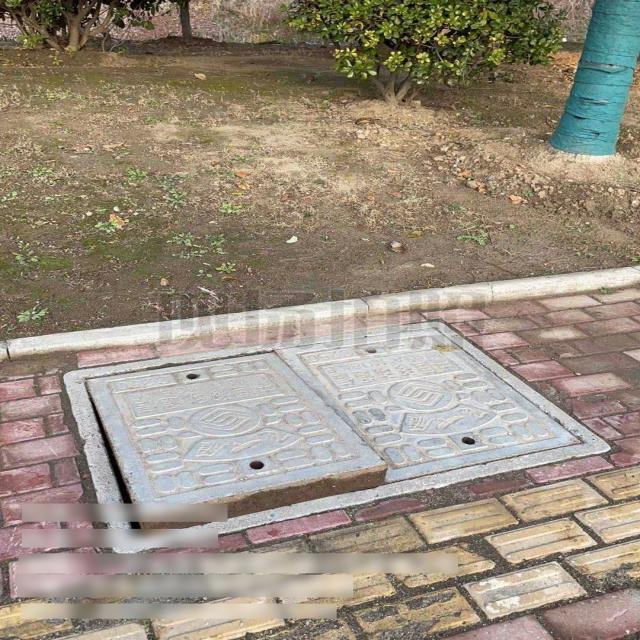Faulty: (61, 319, 616, 557)
